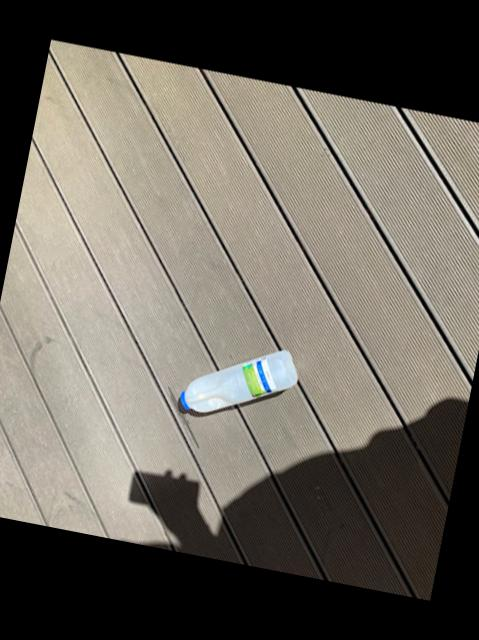plastic: (177, 349, 294, 410)
